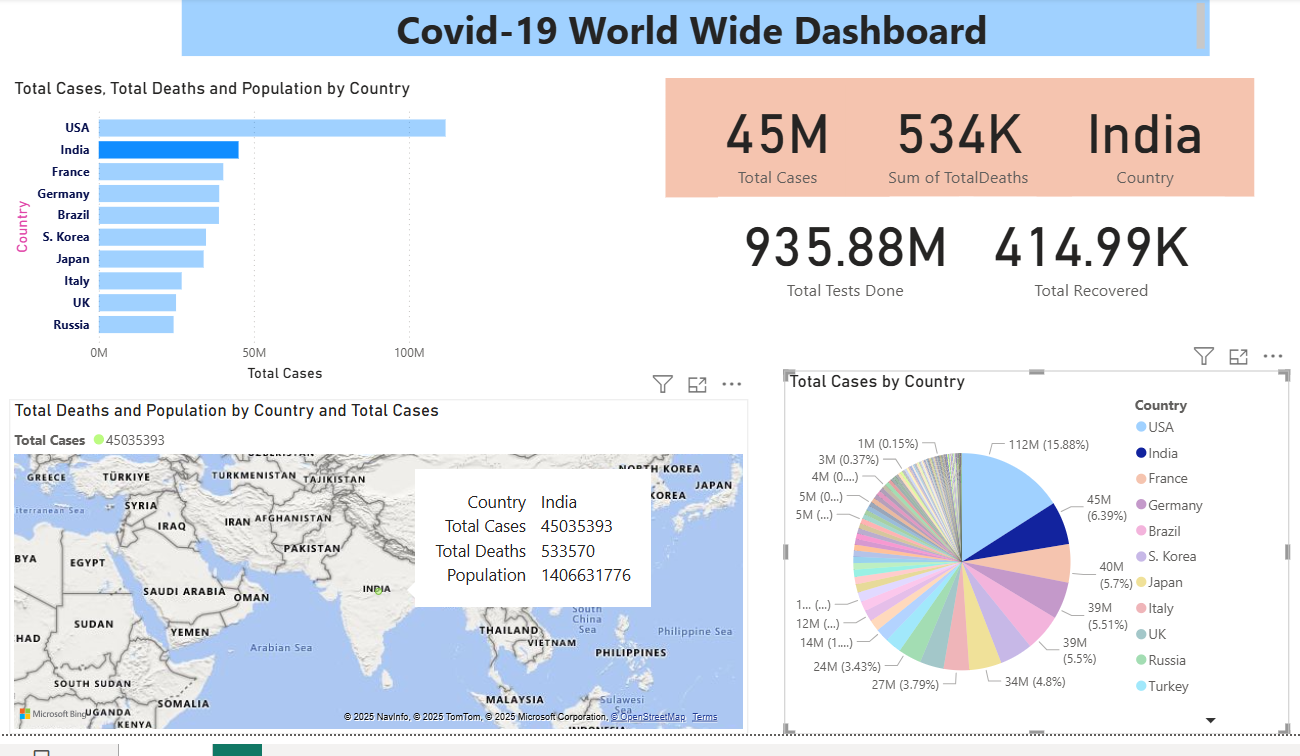

The page's visual inventory and layout, read from the dashboard file:
{"tool":"powerbi","page":{"name":"Page 1","canvas":[1280,720],"ordinal":0},"visuals":[{"type":"map","fields":{"Category":["cleanedCovidData.Country"],"Series":["cleanedCovidData.TotalCases"]},"box":[15.7,392.9,722.9,327.1],"z":0},{"type":"decompositionTreeVisual","fields":{"Analyze":["Sum(cleanedCovidData.TotalCases)"],"ExplainBy":["cleanedCovidData.Country","cleanedCovidData.Continent"]},"box":[945.7,417.1,172.9,302.9],"z":1000},{"type":"card","fields":{"Values":["Sum(cleanedCovidData.TotalCases)"]},"box":[657.3,78.2,219.6,116.6],"z":2000},{"type":"card","fields":{"Values":["Sum(cleanedCovidData.TotalDeaths)"]},"box":[834,78.3,221.3,116.2],"z":3000},{"type":"pieChart","fields":{"Category":["cleanedCovidData.Country"],"Y":["Sum(cleanedCovidData.TotalCases)"]},"box":[773.9,365,494,355.4],"z":4000},{"type":"card","fields":{"Values":["Min(cleanedCovidData.Country)"]},"box":[1021.1,78.3,212.8,116.2],"z":5000},{"type":"textbox","box":[184.3,0,1005.7,57.1],"z":6000},{"type":"card","fields":{"Values":["Sum(cleanedCovidData.TotalTests)"]},"box":[709.2,194.4,249.5,105.2],"z":7000},{"type":"card","fields":{"Values":["Sum(cleanedCovidData.TotalRecovered)"]},"box":[945.2,194.4,259.2,105.2],"z":8000},{"type":"barChart","fields":{"Y":["Sum(cleanedCovidData.TotalCases)"],"Category":["cleanedCovidData.Country"]},"box":[15.7,78.6,472.9,301.4],"z":9000}]}

Visuals, with their boxes on the page's 1280x720 design canvas (x1, y1, x2, y2). These are canvas units, not pixel positions in the 1300x756 screenshot, which may show the page scaled, cropped or inside an application window:
map - cleanedCovidData.Country x cleanedCovidData.TotalCases: (16, 393, 739, 720)
decompositionTreeVisual - Sum(cleanedCovidData.TotalCases) x cleanedCovidData.Country: (946, 417, 1119, 720)
card - Sum(cleanedCovidData.TotalCases): (657, 78, 877, 195)
card - Sum(cleanedCovidData.TotalDeaths): (834, 78, 1055, 194)
pieChart - cleanedCovidData.Country x Sum(cleanedCovidData.TotalCases): (774, 365, 1268, 720)
card - Min(cleanedCovidData.Country): (1021, 78, 1234, 194)
textbox: (184, 0, 1190, 57)
card - Sum(cleanedCovidData.TotalTests): (709, 194, 959, 300)
card - Sum(cleanedCovidData.TotalRecovered): (945, 194, 1204, 300)
barChart - Sum(cleanedCovidData.TotalCases) x cleanedCovidData.Country: (16, 79, 489, 380)
